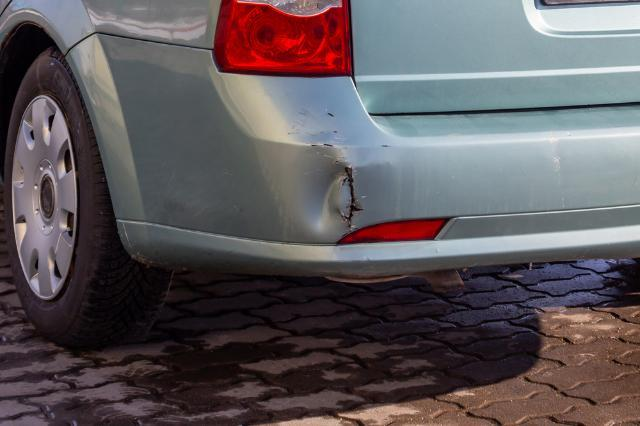crack: (341, 167, 364, 230)
dent: (293, 145, 348, 229)
scratch: (285, 102, 342, 147)
